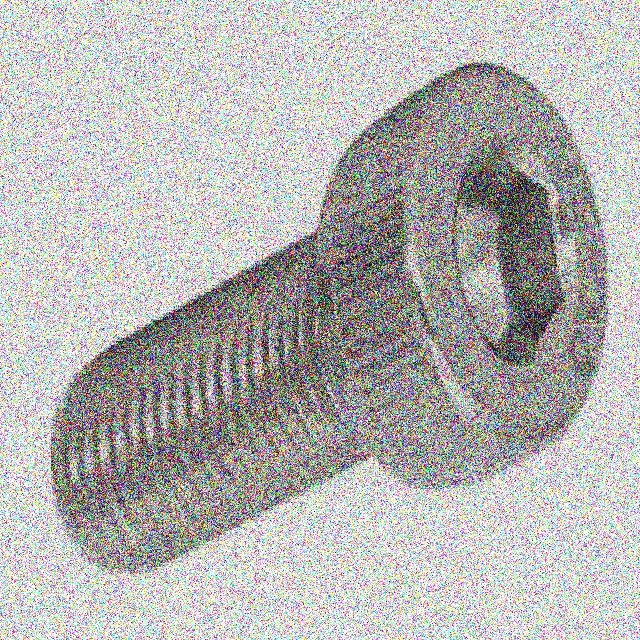allen: (405, 66, 611, 446)
